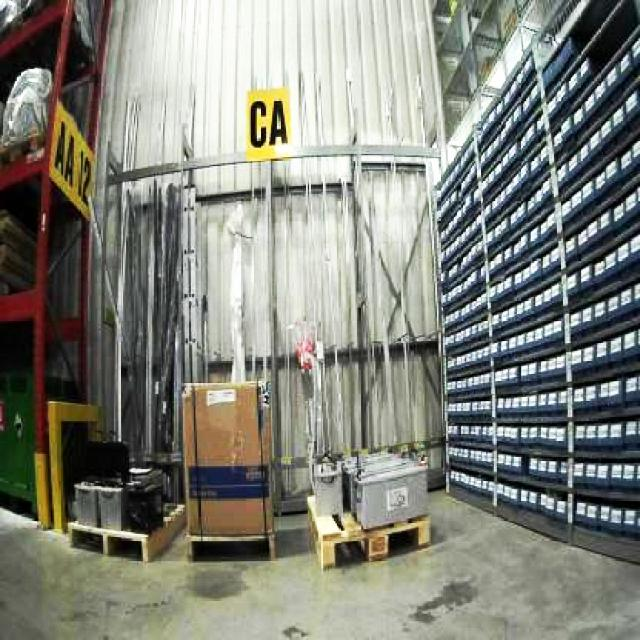ground: (0, 482, 638, 638)
pallet: (431, 0, 638, 574), (45, 398, 186, 562), (180, 377, 277, 560), (305, 494, 431, 569), (45, 397, 100, 532), (66, 502, 186, 562), (342, 449, 429, 529)
